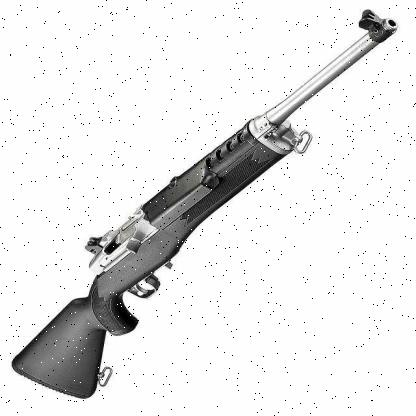rifle: (3, 6, 403, 401)
